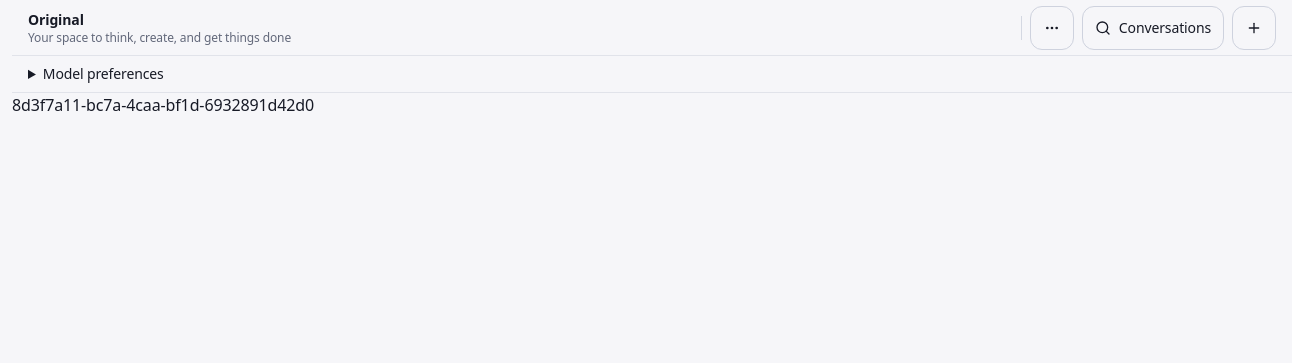
Test: CopilotKit consumer session adapter › reports a failed session switch without mounting an unverified thread
Click the button with aria-label "Find conversations" at (1153, 28), box [1082, 6, 1224, 50]
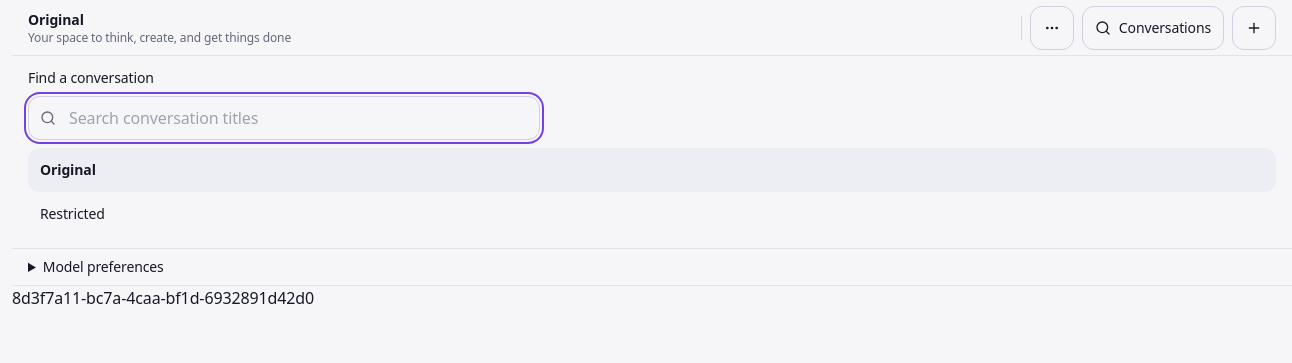
Click the button "Restricted" at (72, 214), box [28, 192, 1276, 236]
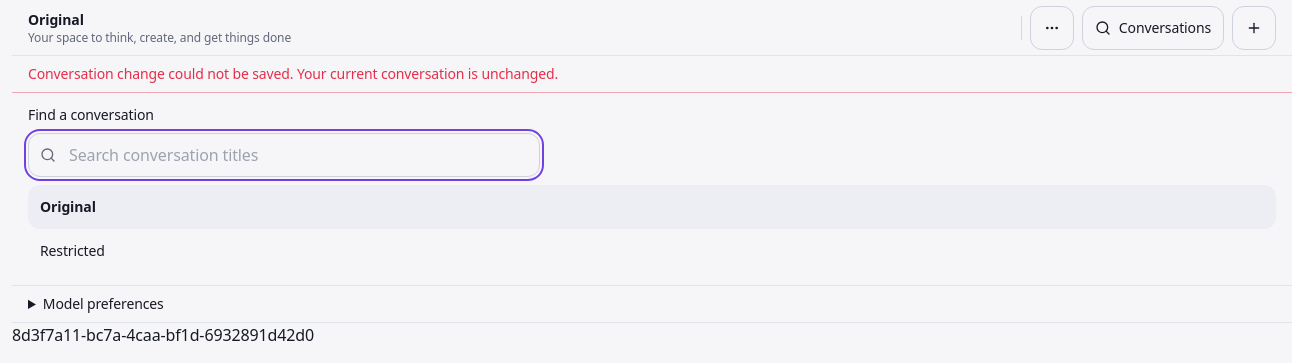
Expected: the text with test id "owned-copilot-chat" reads "8d3f7a11-bc7a-4caa-bf1d-6932891d42d0", [12, 324, 314, 346]
Result: the message shows "could not be saved" at [28, 64, 558, 83]
